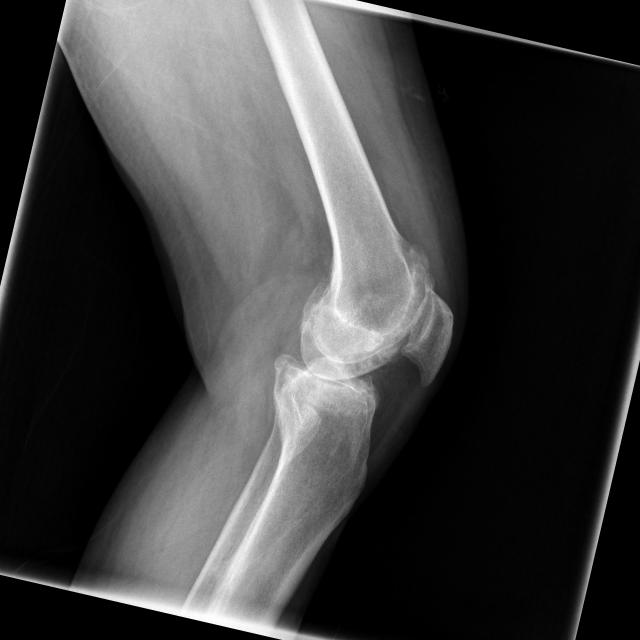Knee: (252, 248, 463, 477)
